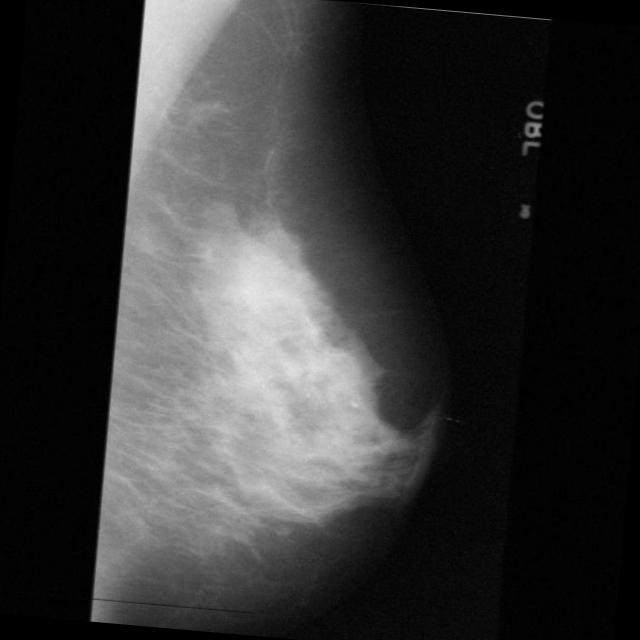ARCH: (269, 311, 387, 428)
